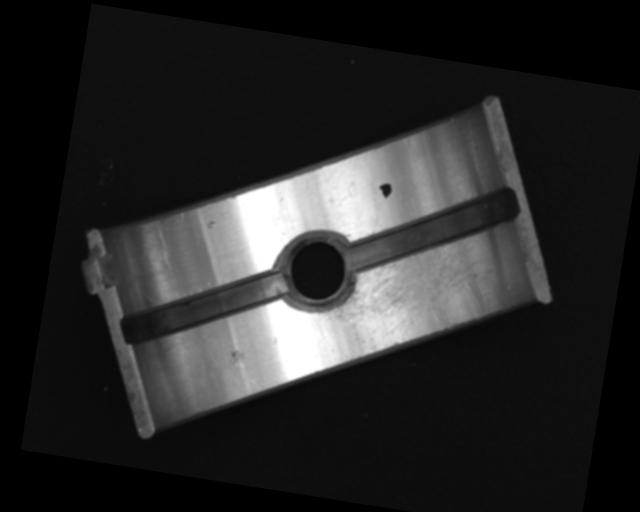blot: (376, 180, 393, 201)
bruise: (227, 347, 246, 368), (205, 219, 217, 230)
gap: (345, 165, 521, 295), (117, 250, 290, 367)
hole: (274, 225, 360, 319)
nick: (144, 219, 178, 270)
scratch: (311, 221, 484, 379)
